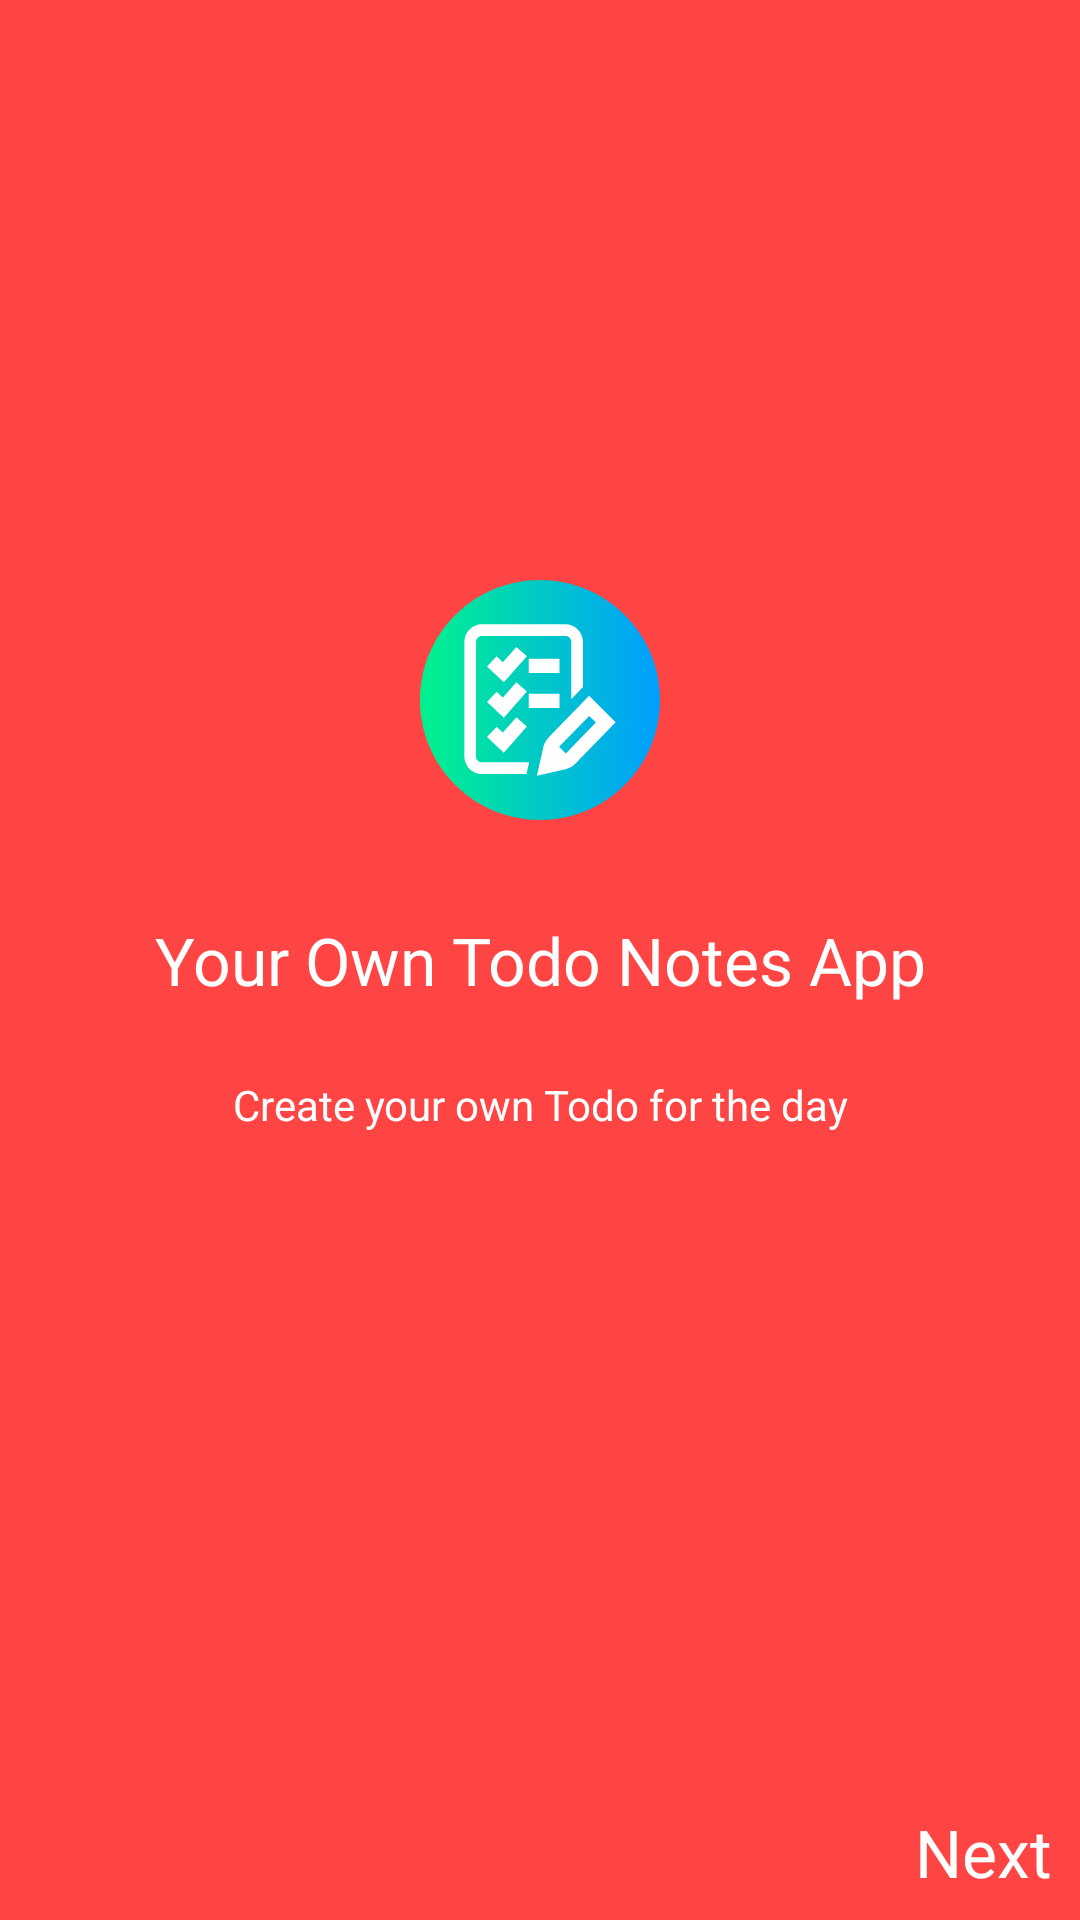

Where icons sit on this 1080px×1920px app screen, as (x1, y1, x2, y2):
checklist: (420, 580, 660, 820)
